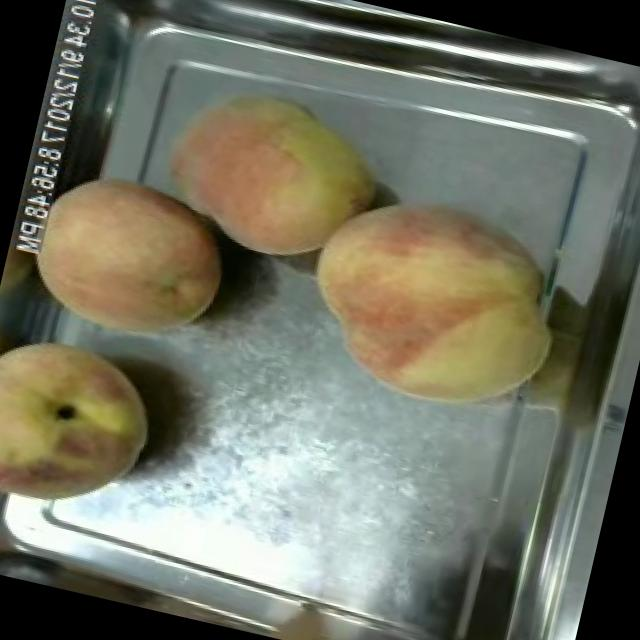Fruit: (282, 167, 584, 436), (142, 64, 400, 284), (0, 145, 249, 368), (0, 314, 179, 540)
